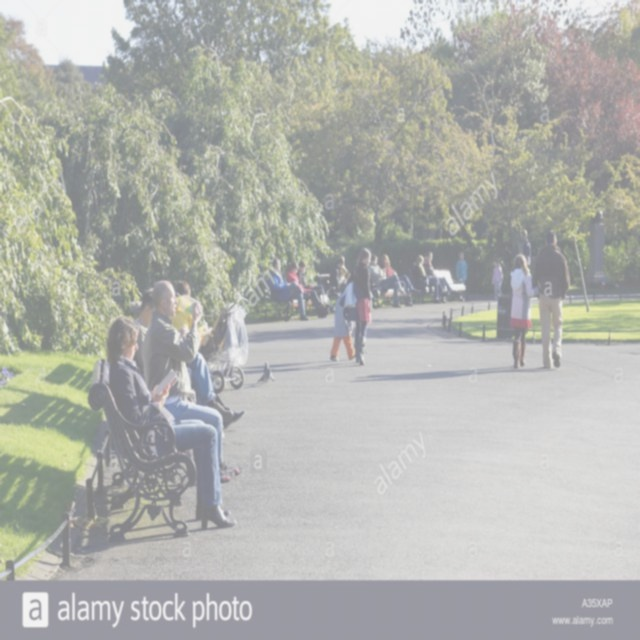pessoa: (105, 315, 238, 531), (140, 278, 241, 486), (141, 284, 225, 456), (532, 228, 570, 370), (186, 352, 247, 432), (508, 252, 540, 370), (266, 256, 310, 321), (284, 260, 330, 320), (352, 246, 374, 366), (329, 279, 358, 362), (294, 258, 336, 314), (378, 253, 414, 308), (422, 250, 458, 303), (410, 254, 448, 304), (369, 254, 402, 308), (487, 222, 520, 246), (331, 255, 351, 293), (454, 248, 468, 301), (490, 256, 503, 301), (519, 229, 531, 267)
